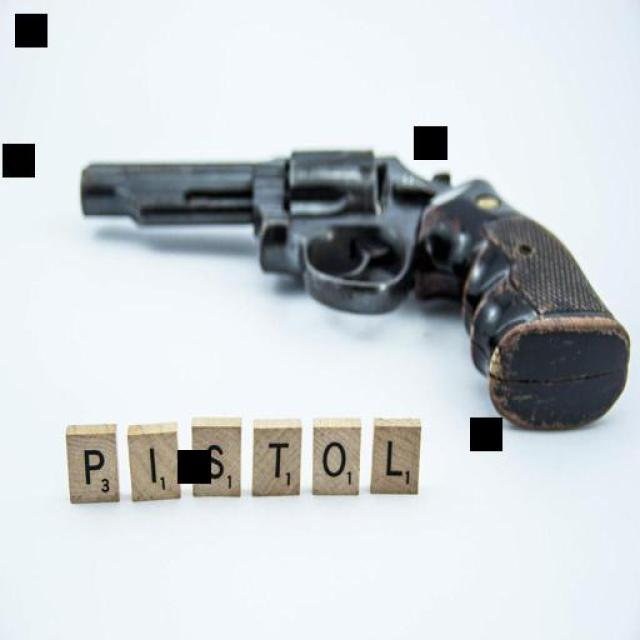gun: (74, 140, 630, 442)
